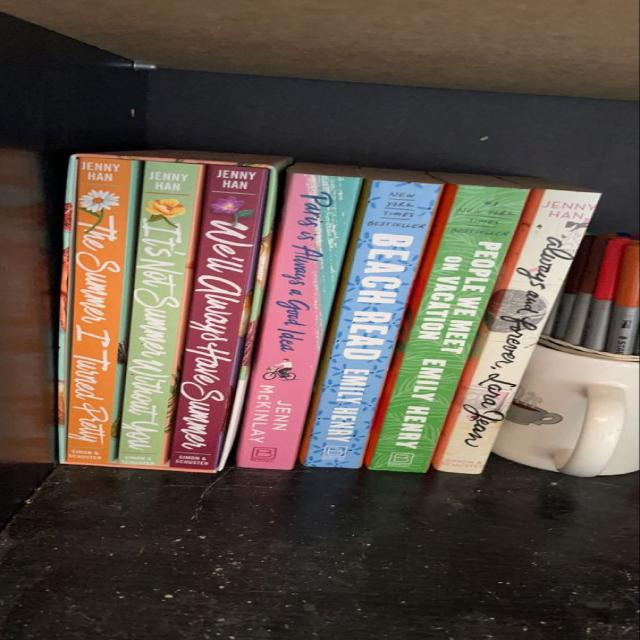book: (432, 189, 598, 473), (365, 185, 527, 472), (301, 180, 441, 468), (237, 170, 361, 469), (170, 165, 269, 471), (113, 161, 203, 466), (60, 155, 142, 466)
